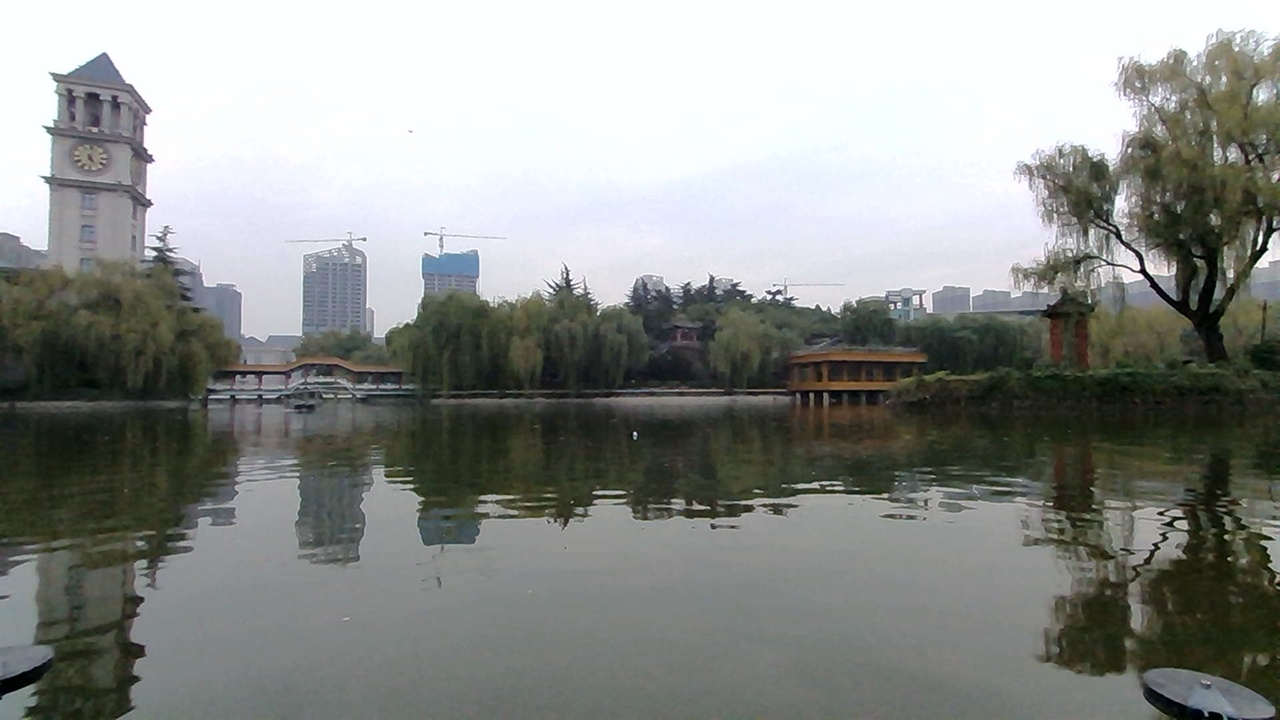bottle: (624, 420, 668, 453)
